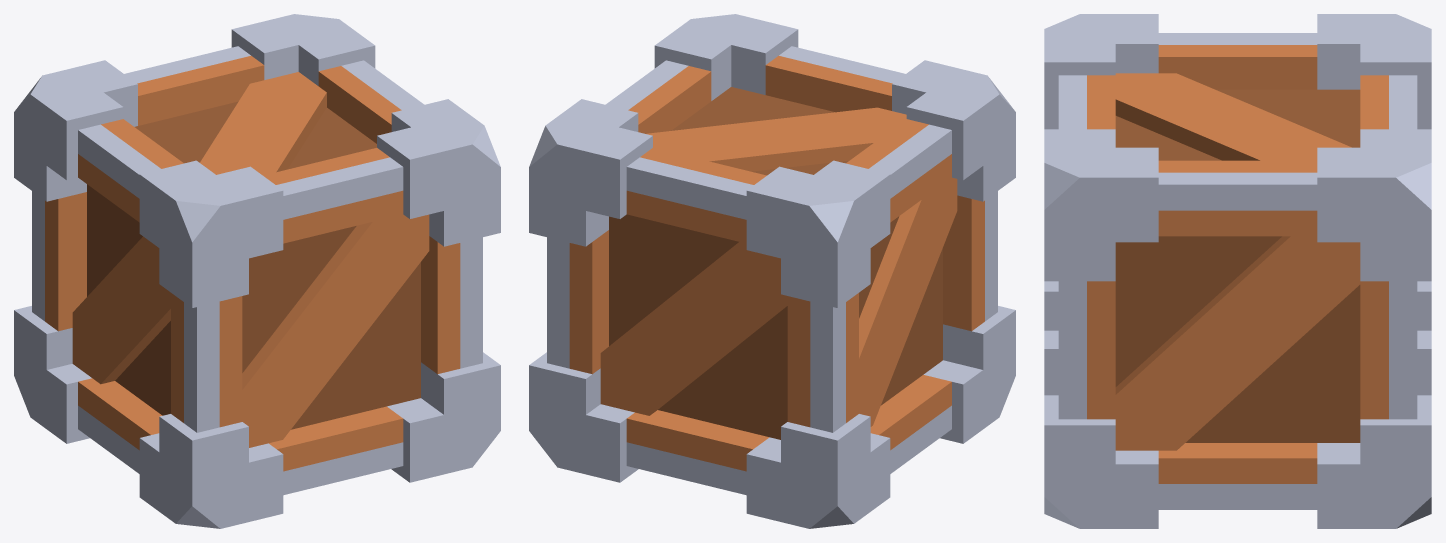
Rendered from crateStrong.obj.
3 views of the same model, side by side, from view 1: azimuth 30°, elevation 25°; view 2: azimuth 150°, elevation 25°; view 3: azimuth 270°, elevation 25° (orthographic). The views are drawn at different scales.
Visible parts, largest first — view 1: crateStrong; view 2: crateStrong; view 3: crateStrong.
Boxes of the visible parts, x1=… form: crateStrong: x1=14, y1=14, x2=500, y2=528; crateStrong: x1=529, y1=14, x2=1015, y2=528; crateStrong: x1=1044, y1=14, x2=1431, y2=528.
Bounding box in the file's own units: 0.54 × 0.54 × 0.54.
